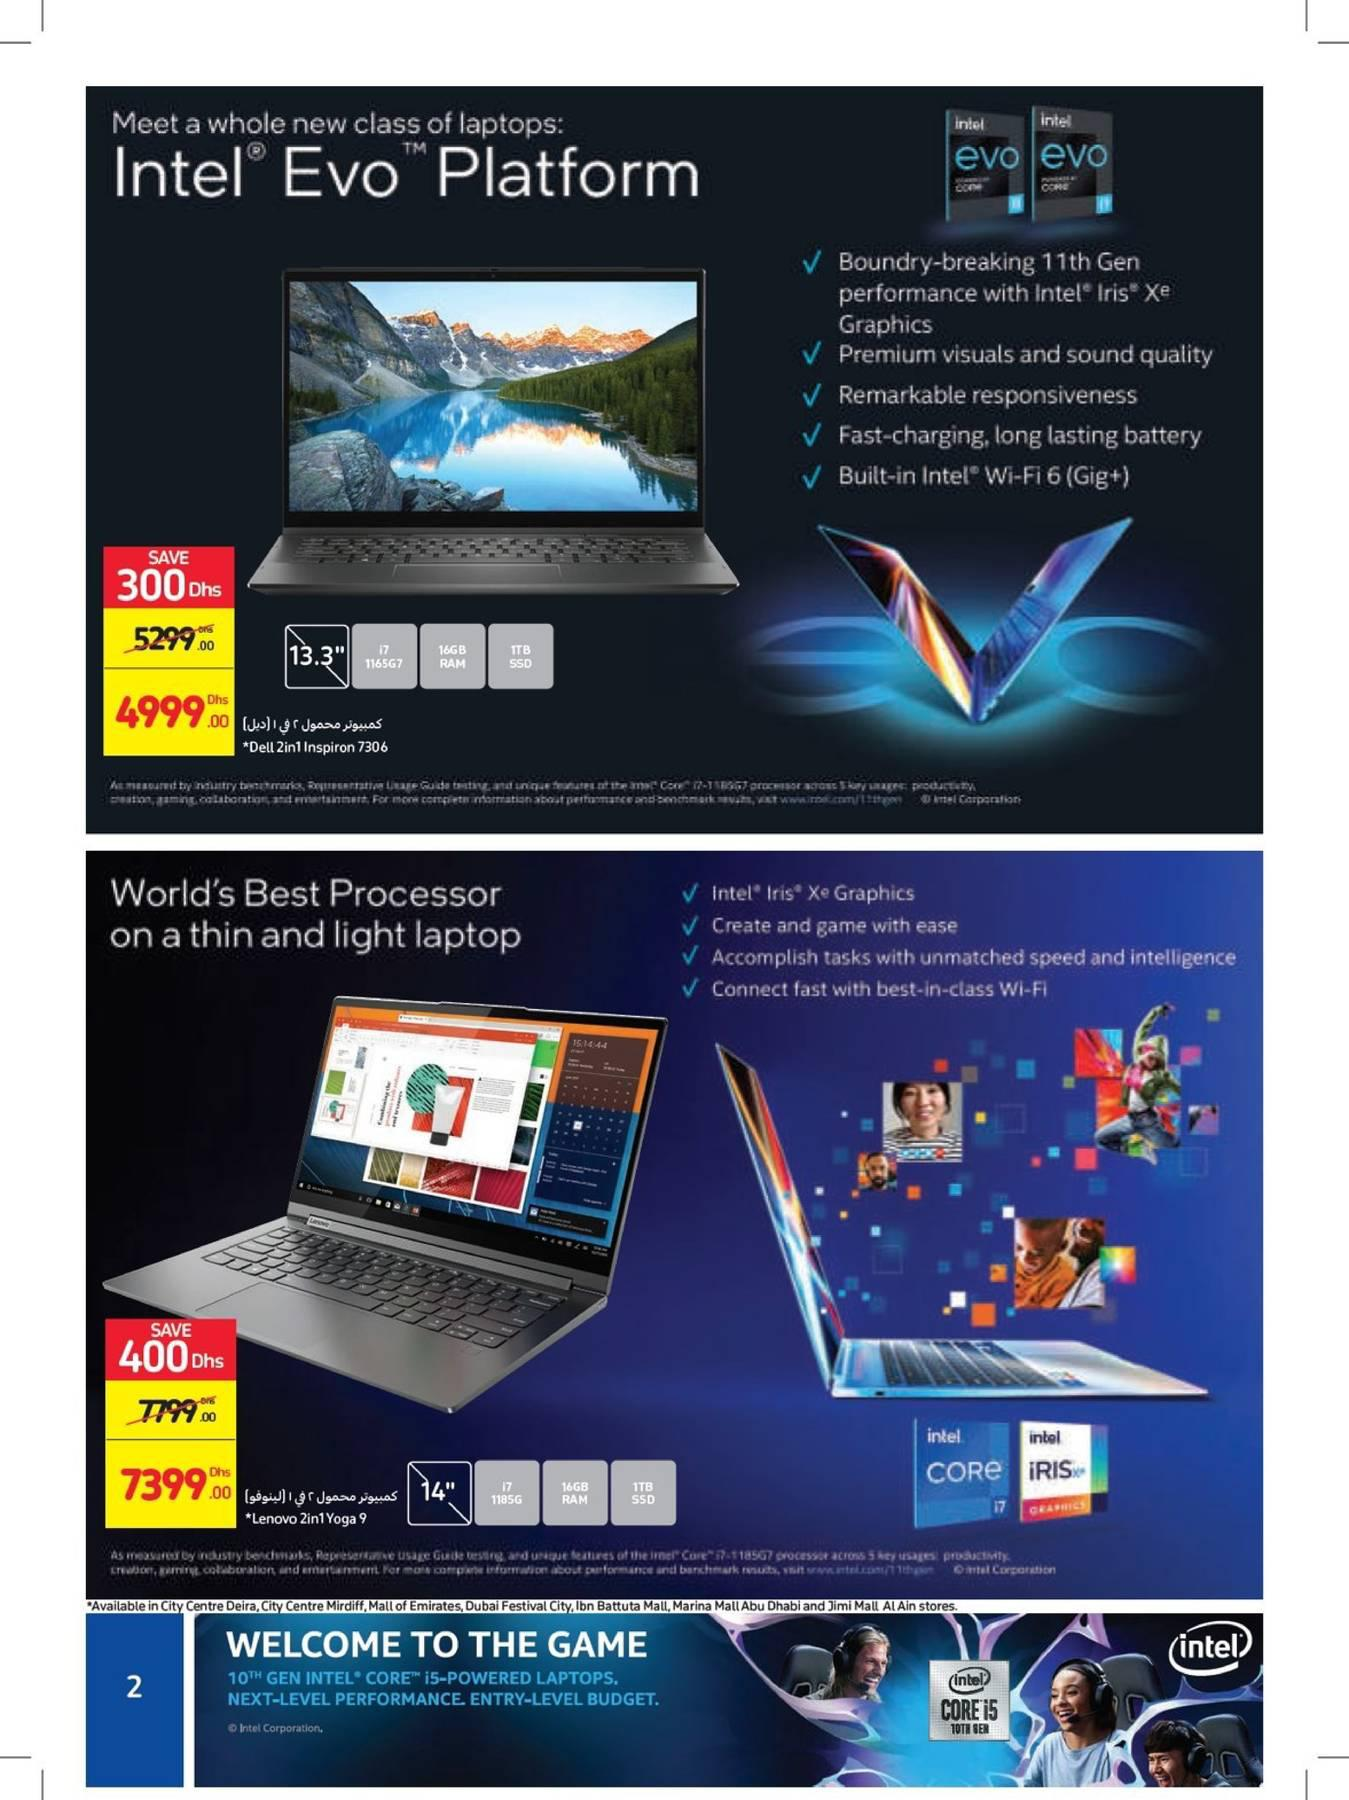text: (237, 709, 397, 760), (241, 1485, 402, 1534)
